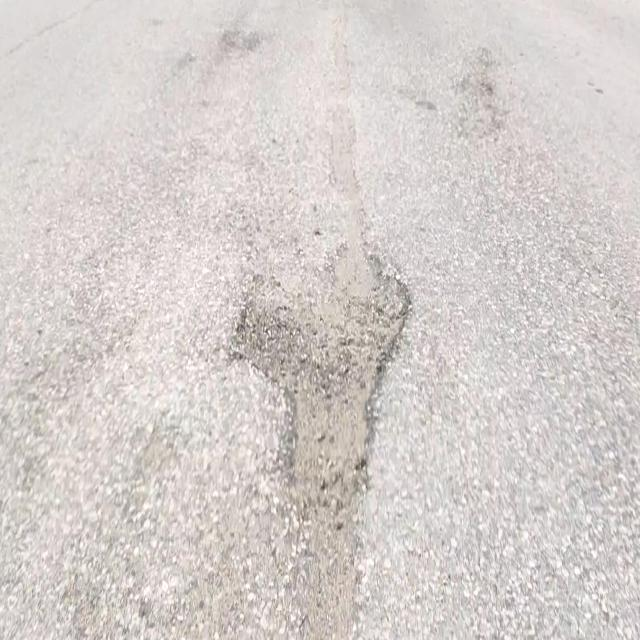Potholes: (226, 242, 414, 508)
